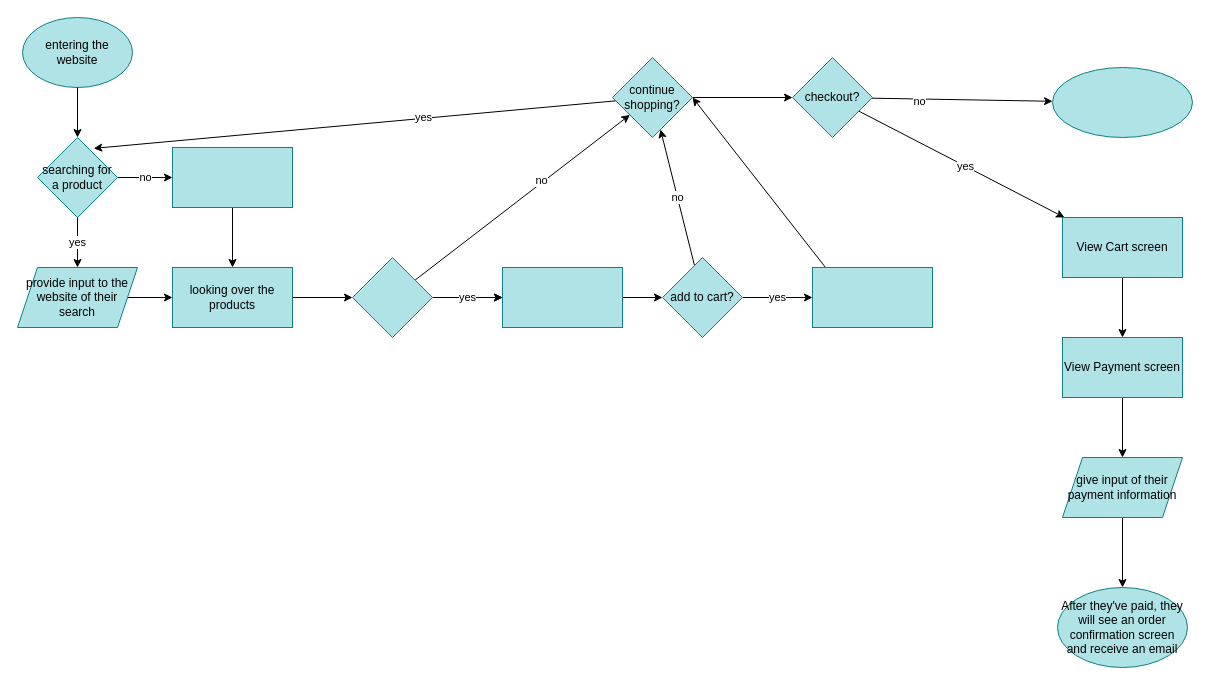
Image size: 1210x685. Some labels were removed from this diagram. The centre of each missing label's shape, as x and y in pixels:
"explore products on the homepage" belongs at (x=232, y=177).
"leave the website" belongs at (x=1122, y=102).
"product's webpage will open" belongs at (x=562, y=297).
"receive an added to cart confirmation" belongs at (x=872, y=297).
"view a specific product" belongs at (x=392, y=297).
